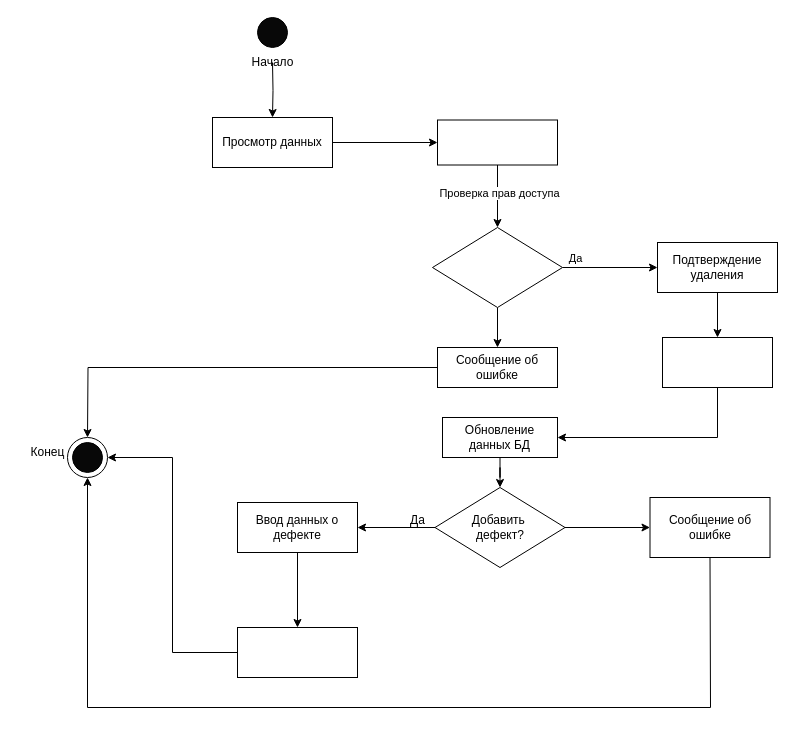
Image size: 795x733. Some labels were removed from this diagram. The shapes that lost their labels are listed below. From the top down, each one's box as (x1, y1, x2, y2) in pixels, then its label:
(436, 119, 558, 165): Выбор дефекта
(432, 226, 562, 308): Удалить дефект?
(662, 336, 772, 388): Успешно удалён
(236, 626, 358, 678): Успешно добавлен
